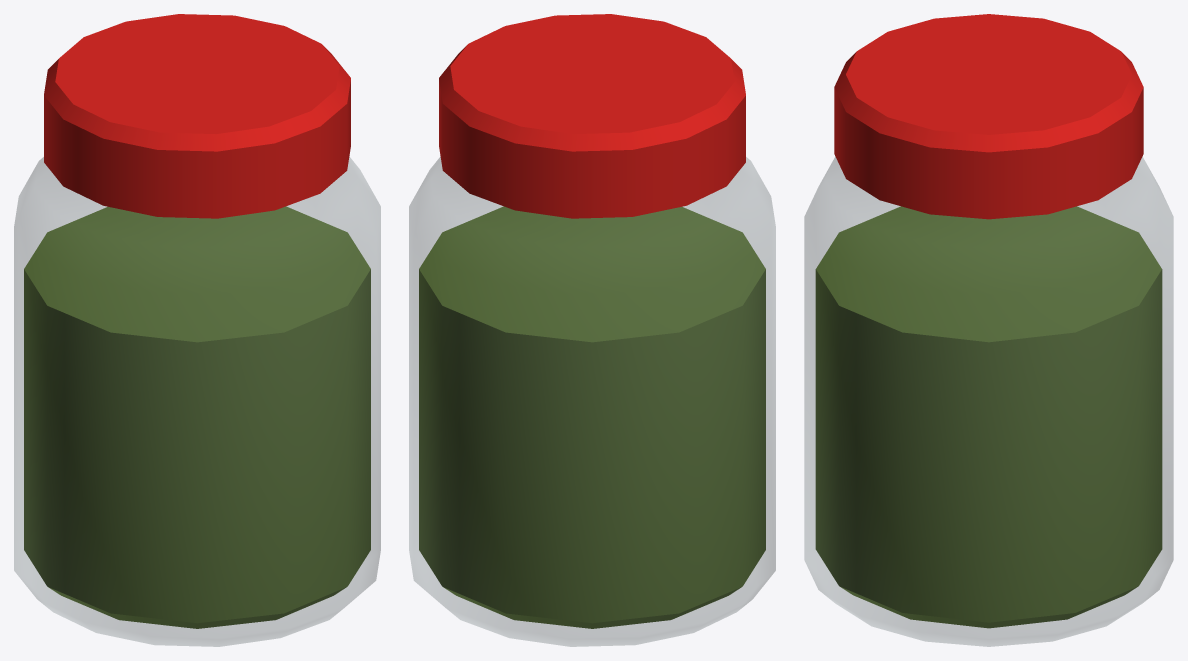
File: chimichurri.glb
The picture shows the model from 3 angles, left to right: view 1: azimuth 30°, elevation 25°; view 2: azimuth 150°, elevation 25°; view 3: azimuth 270°, elevation 25°; orthographic projection.
Parts seen in each view (by area): view 1: chimichurri_frasco, pieza_relleno, chimichurri_tapa; view 2: chimichurri_frasco, pieza_relleno, chimichurri_tapa; view 3: chimichurri_frasco, pieza_relleno, chimichurri_tapa.
Part boxes in pixels (x1,y1,x2,y2): chimichurri_frasco: [14, 157, 380, 646]; pieza_relleno: [24, 206, 370, 628]; chimichurri_tapa: [44, 14, 350, 218]; chimichurri_frasco: [409, 157, 775, 646]; pieza_relleno: [419, 206, 765, 628]; chimichurri_tapa: [439, 14, 745, 218]; chimichurri_frasco: [804, 157, 1173, 646]; pieza_relleno: [815, 206, 1162, 628]; chimichurri_tapa: [834, 14, 1143, 219].
Size of the model in its own units: 0.08 by 0.12 by 0.08.
